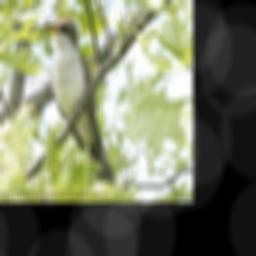Cuckoo: (43, 14, 115, 188)
